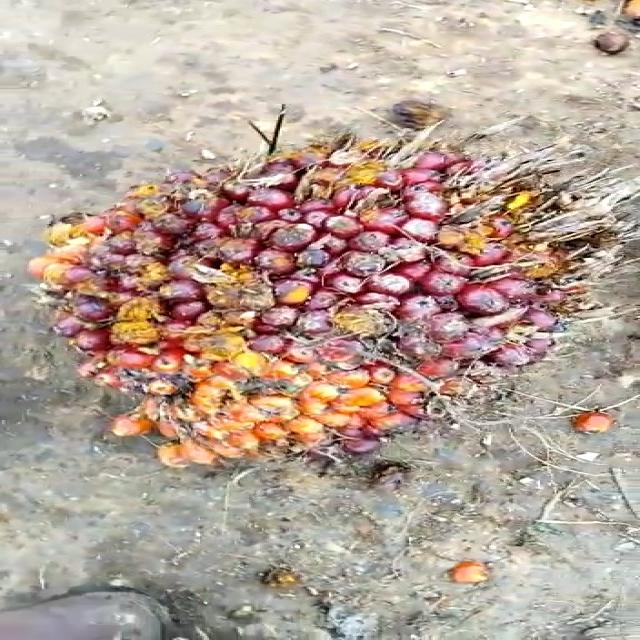palm oil: (41, 119, 640, 526)
